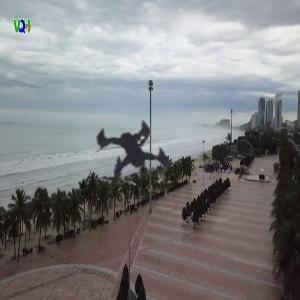drone: (20, 46, 246, 272)
